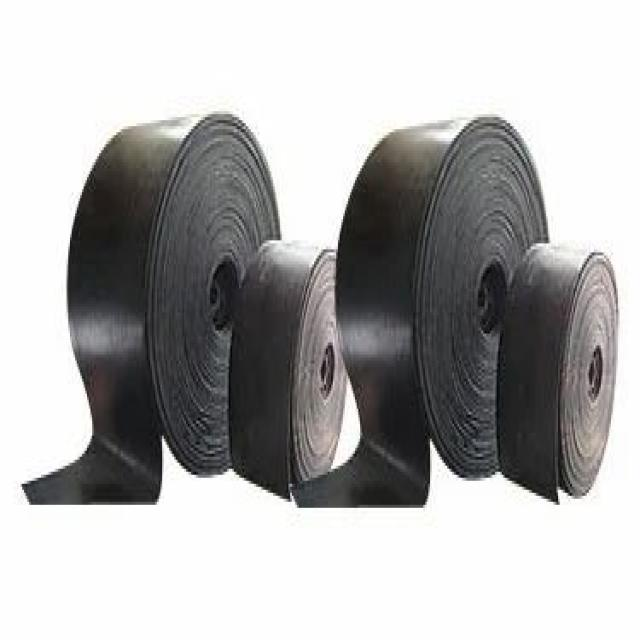conveyor: (40, 74, 620, 556)
